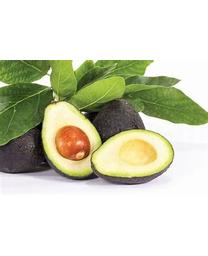avocado: (40, 98, 104, 182), (89, 127, 177, 185), (88, 99, 147, 154)
